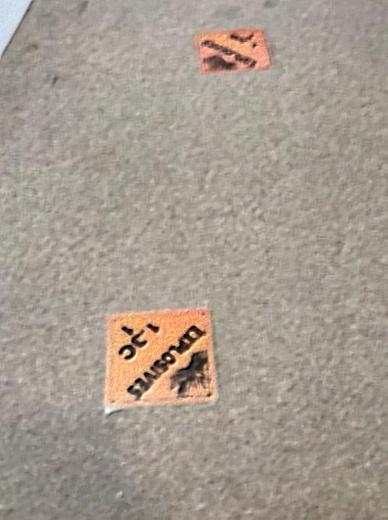explosive: (101, 309, 217, 409), (194, 28, 277, 78)
